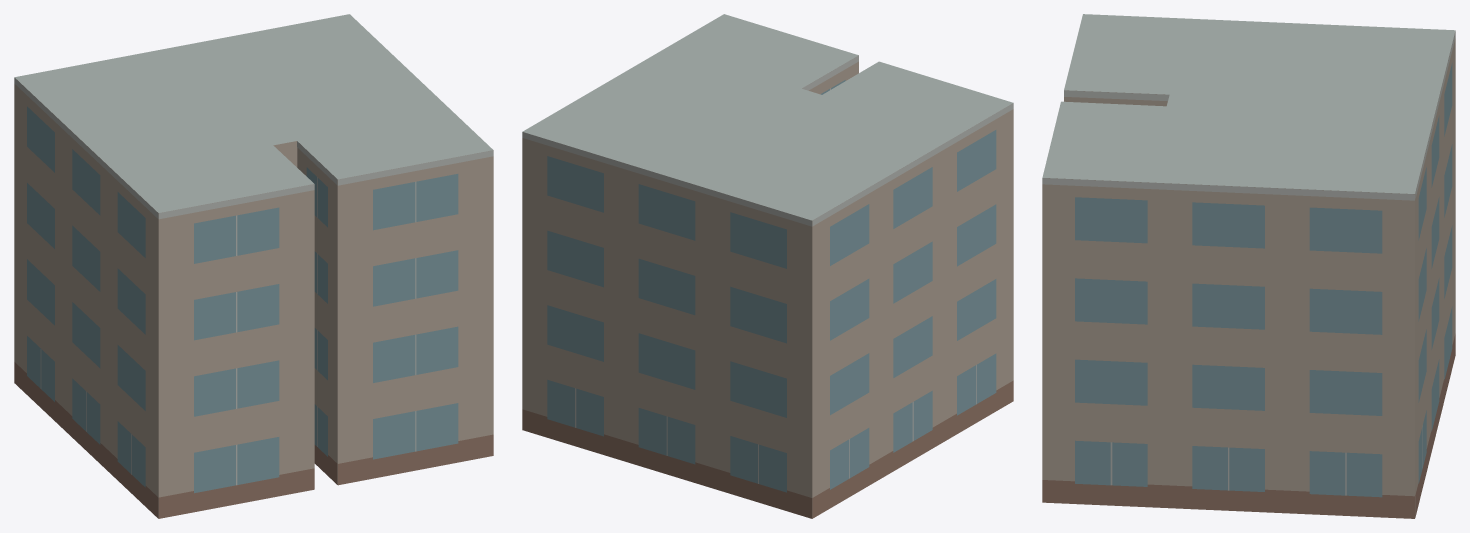
Rendered from survey-upis-32668948.glb.
3 views of the same model, side by side, from view 1: azimuth 30°, elevation 25°; view 2: azimuth 150°, elevation 25°; view 3: azimuth 270°, elevation 25° (orthographic). The views are drawn at different scales.
Visible parts, largest first — view 1: survey-upis-32668948.tmp; view 2: survey-upis-32668948.tmp; view 3: survey-upis-32668948.tmp.
Boxes of the visible parts, x1=… form: survey-upis-32668948.tmp: x1=14, y1=14, x2=493, y2=518; survey-upis-32668948.tmp: x1=522, y1=14, x2=1013, y2=518; survey-upis-32668948.tmp: x1=1042, y1=14, x2=1455, y2=518.
Bounding box in the file's own units: 14.28 × 12 × 13.85.
